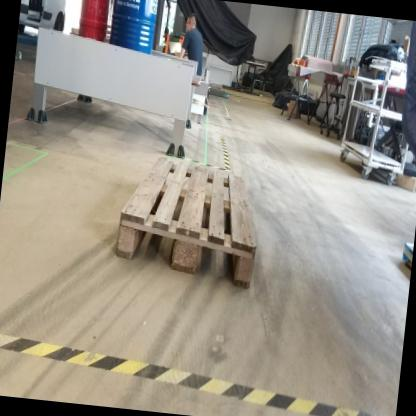BoxFace: (112, 151, 262, 294)
